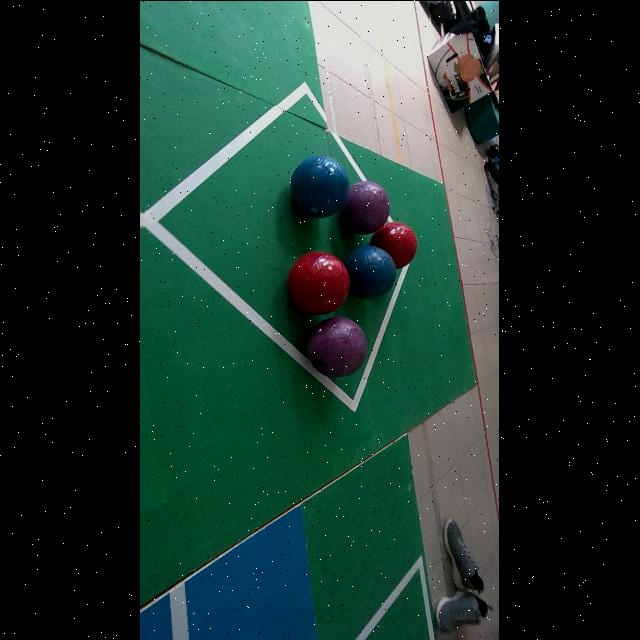B: (292, 154, 349, 217), (346, 245, 397, 299)
P: (308, 316, 369, 378), (341, 180, 390, 233)
R: (288, 250, 351, 314), (371, 221, 418, 268)
